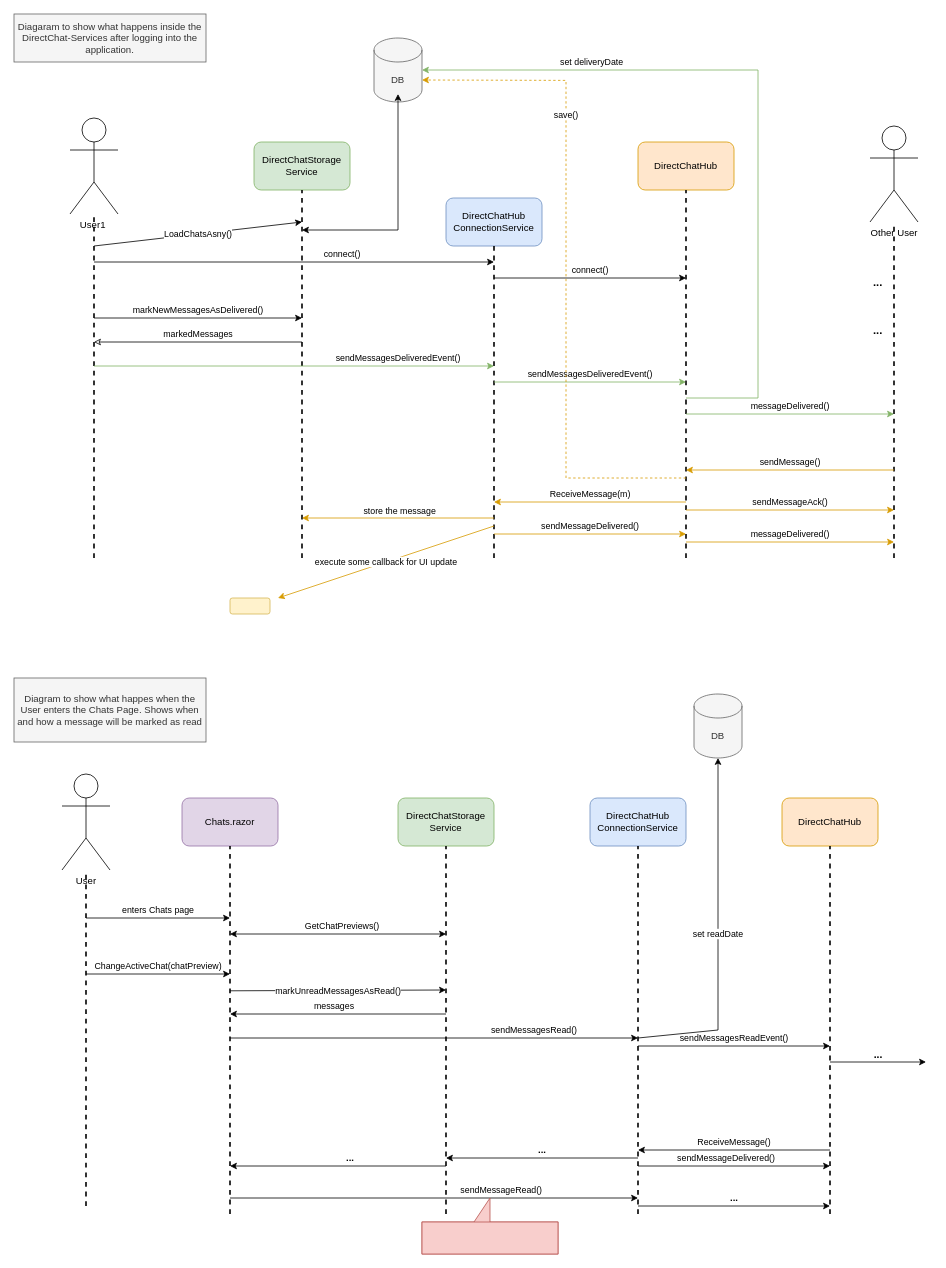
The diagram is 946 pixels wide and 1268 high, and some of its shapes have lost their labels. Here are the shapes that lost their labels. From the top down, the centre of each, then its label:
At [249,605]: "UI".
At [489,1237]: "Only If the message is from the chat that is currently displayed".
